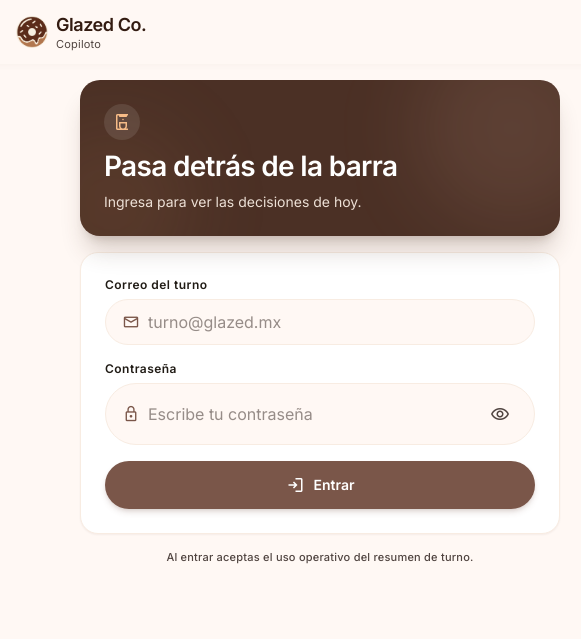
it: login form › a network error shows the connection error
The image size is (581, 639).
Type "m@x.mx" into the field labelled "Correo del turno".
click(333, 322); type("m@x.mx")  # box [148,312,518,332]
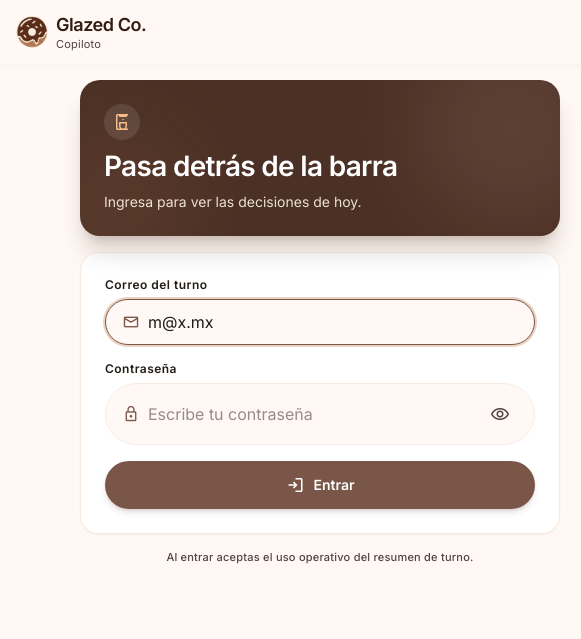
Type "secreto" into the password field labelled "Contraseña".
click(311, 414); type("secreto")  # box [148,404,474,424]
Then press Enter
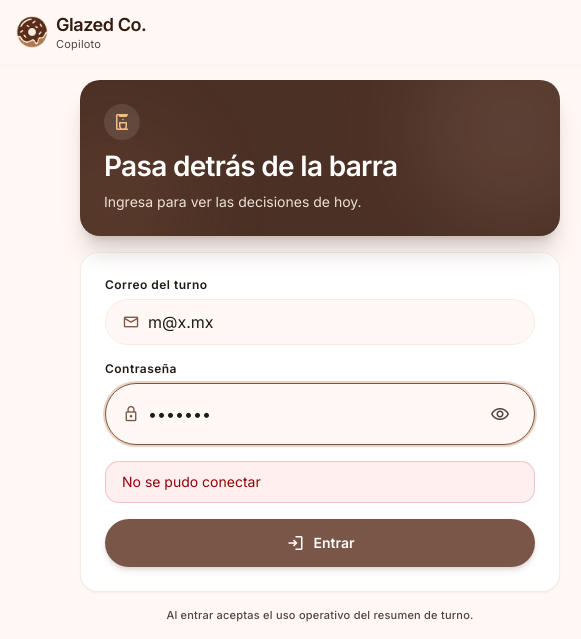
Check: the message reads "No se pudo conectar", box [122,473,261,490]
